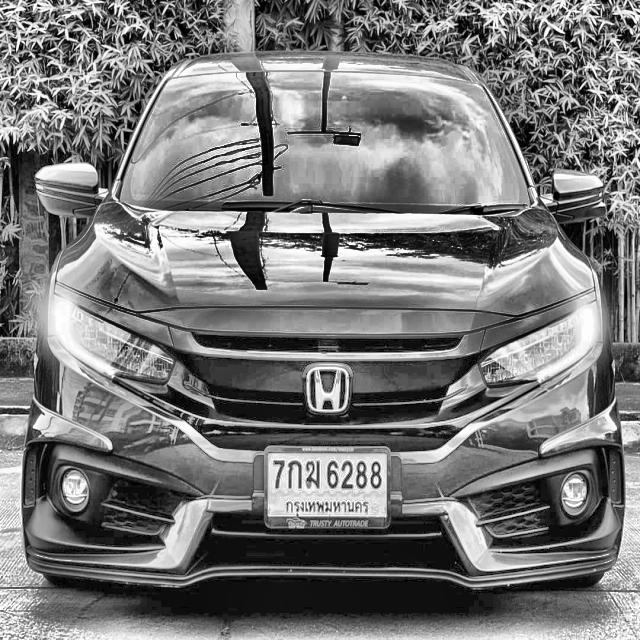license-plate: (264, 444, 391, 530)
